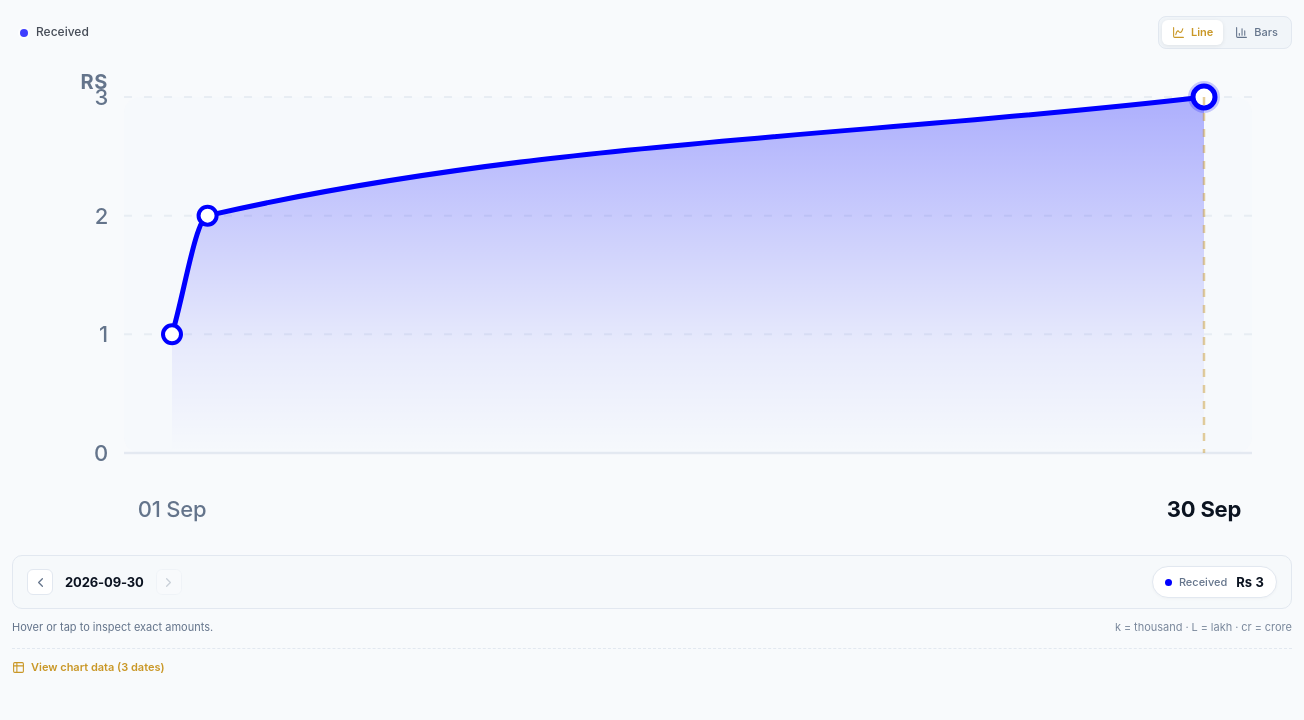
Test: shared charts › keeps clustered axis dates apart without losing exact date inspection
Step 1. Press ArrowLeft in the element named "Explore chart"
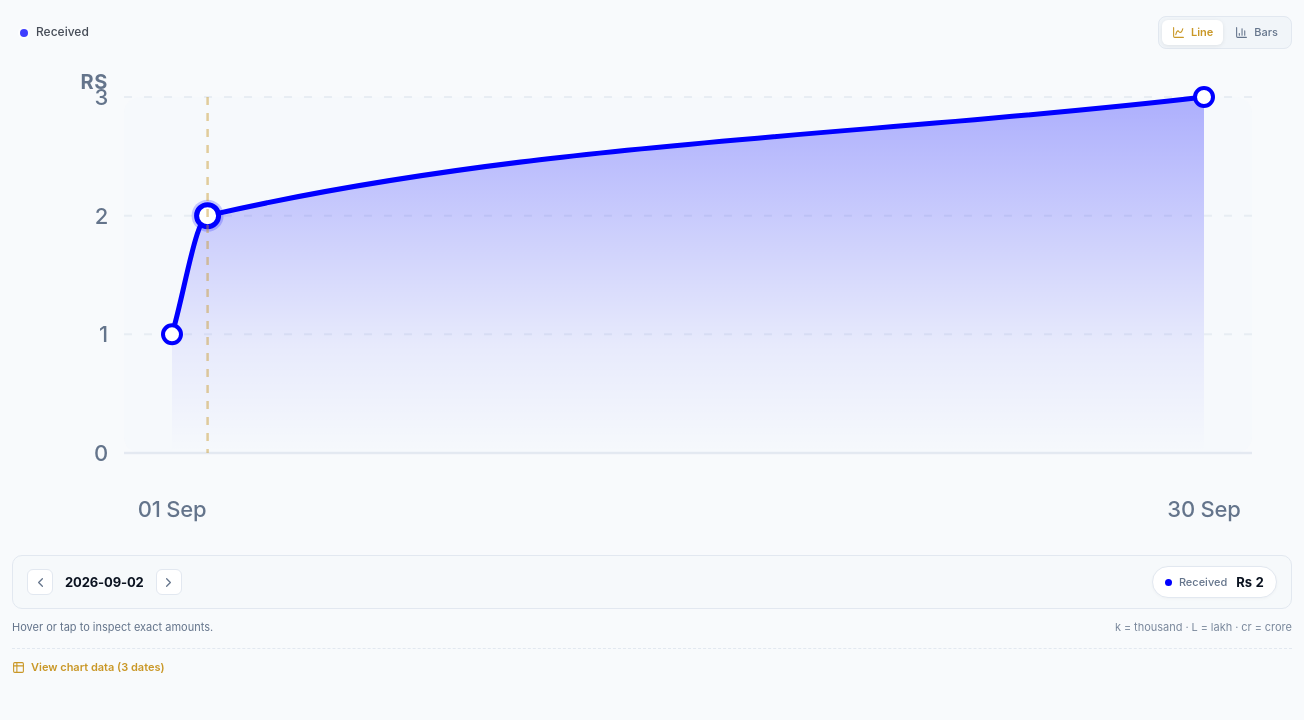
Expected: the text "2026-09-02" is shown, [61,572,148,592]
Step 2. Click the heading "View chart data (3 dates)" → (88, 667), box [12,660,165,674]
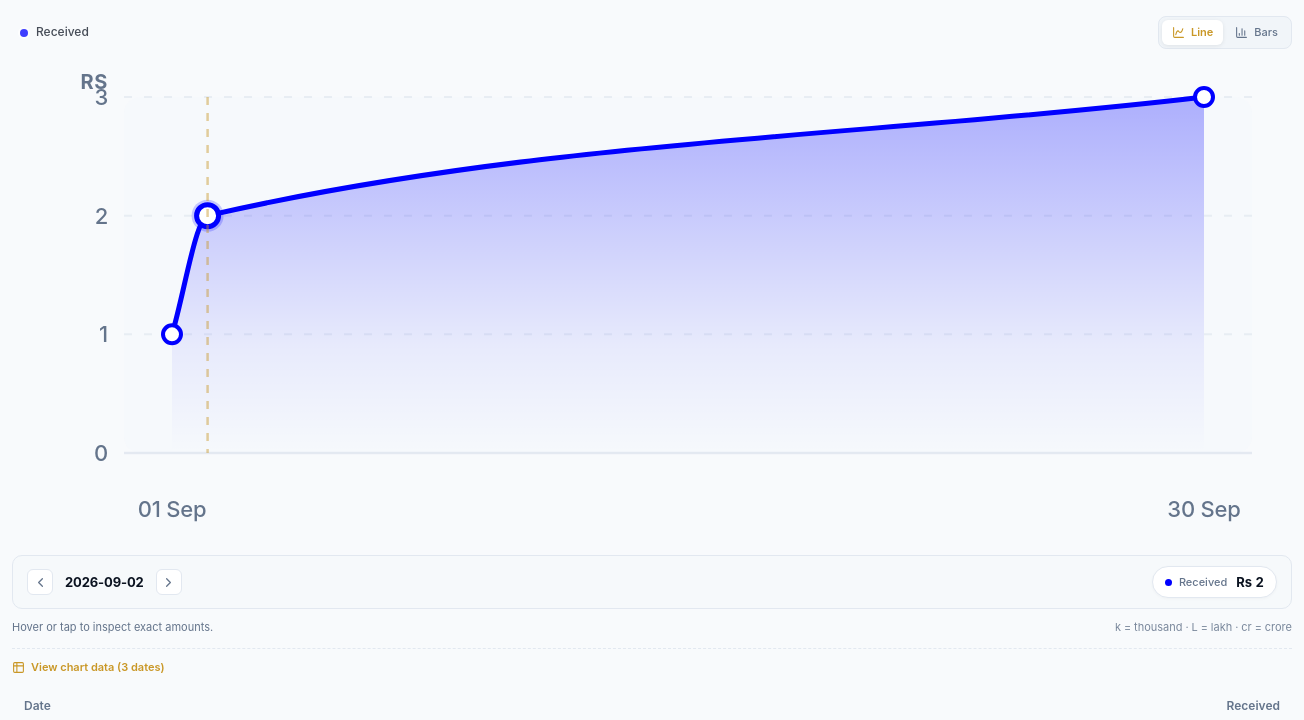
Expected: the number of rows is 4
